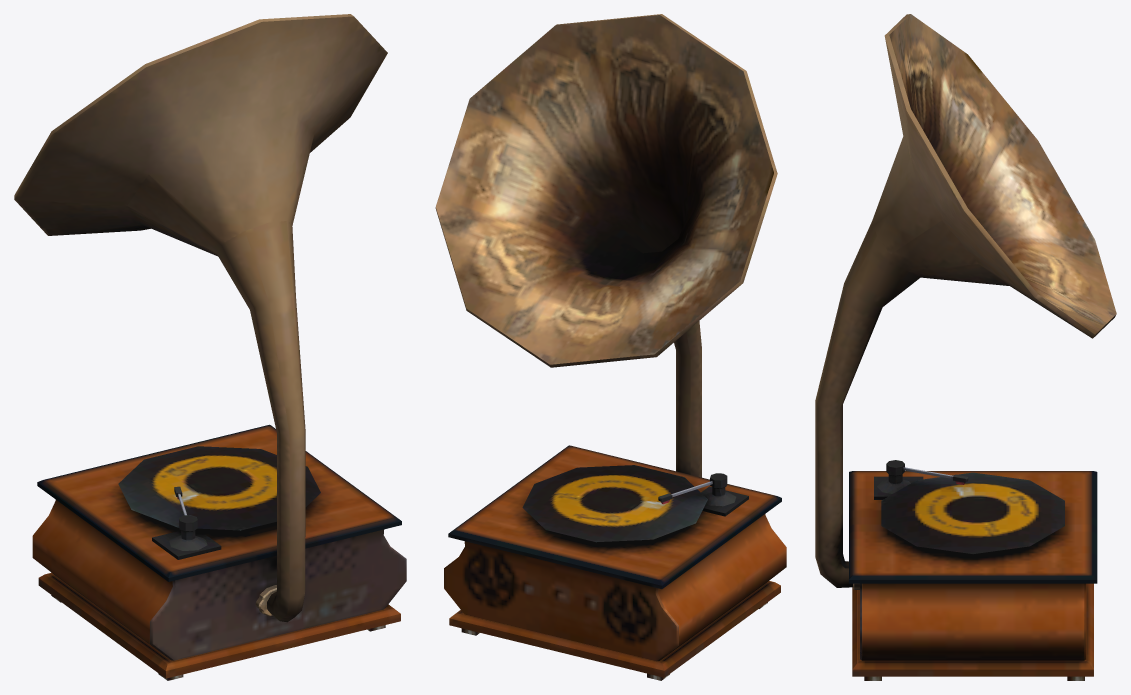
File: furni_0200444.FBX
The picture shows the model from 3 angles, left to right: view 1: azimuth 30°, elevation 25°; view 2: azimuth 150°, elevation 25°; view 3: azimuth 270°, elevation 25°; orthographic projection. The views are drawn at different scales.
Parts seen in each view (by area): view 1: furni_0200444; view 2: furni_0200444; view 3: furni_0200444.
Boxes of the visible parts, bbox=[...] form: furni_0200444: bbox=[14, 14, 406, 680]; furni_0200444: bbox=[435, 14, 786, 680]; furni_0200444: bbox=[815, 14, 1116, 680].
Size of the model in its own units: 78.56 by 140 by 64.38.
